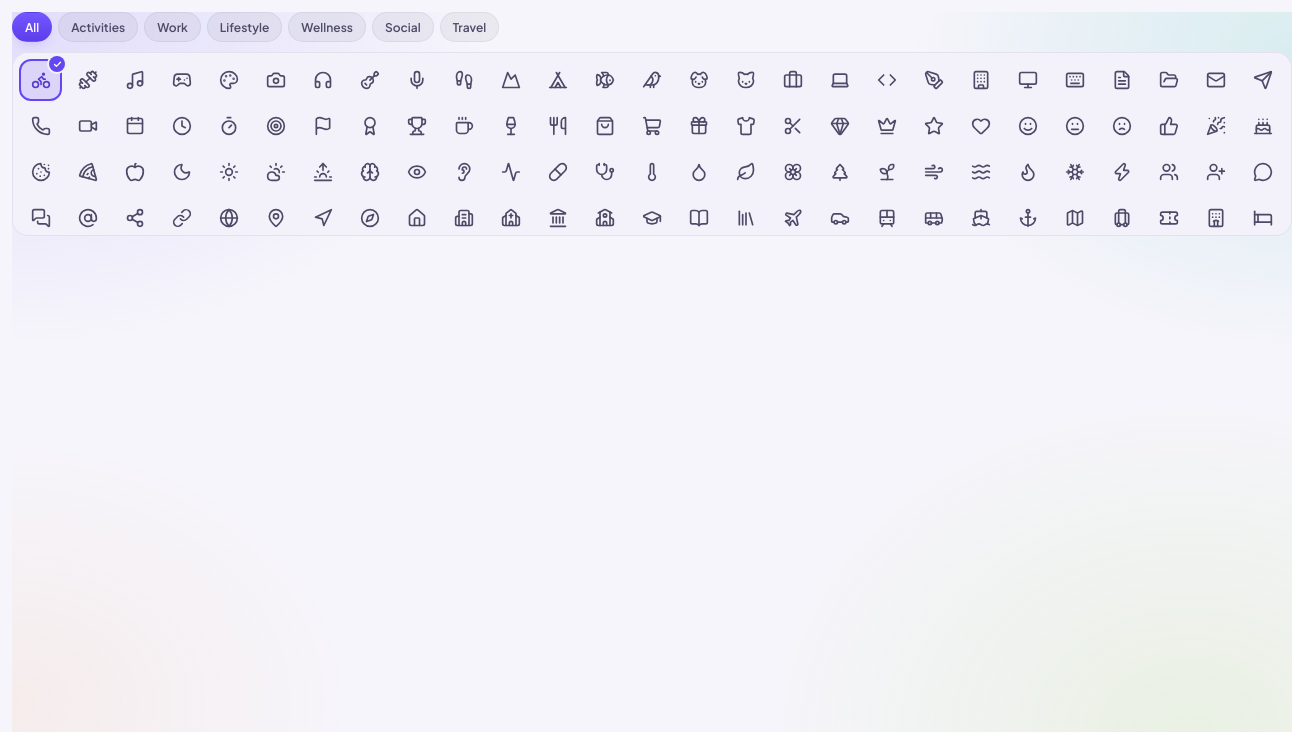
IconPicker › filters the grid by category
The image size is (1292, 732).
Click the button "Work" at (173, 27), box left=144, top=12, right=201, bottom=42
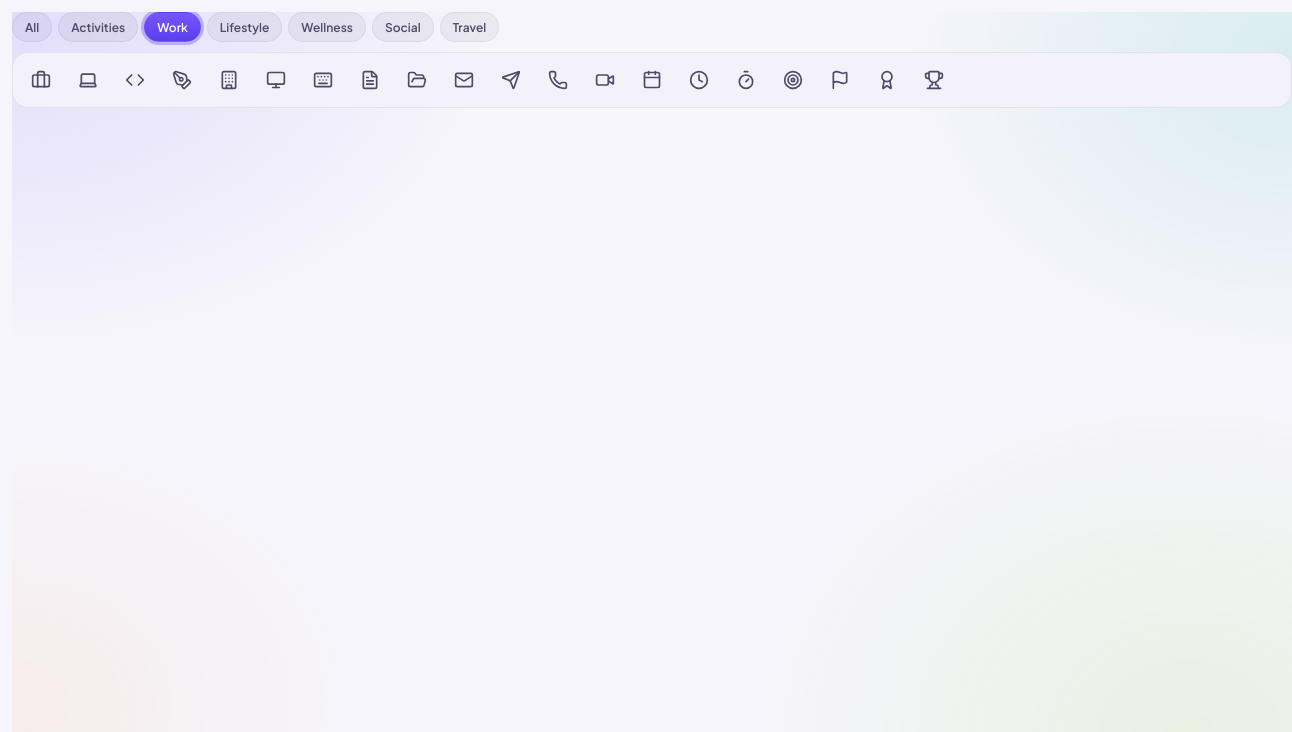
Expected: the radio button named "Briefcase" is shown, left=19, top=59, right=62, bottom=101
Now the number of radio buttons is 20
Now the radio button labelled "Bike" is gone
